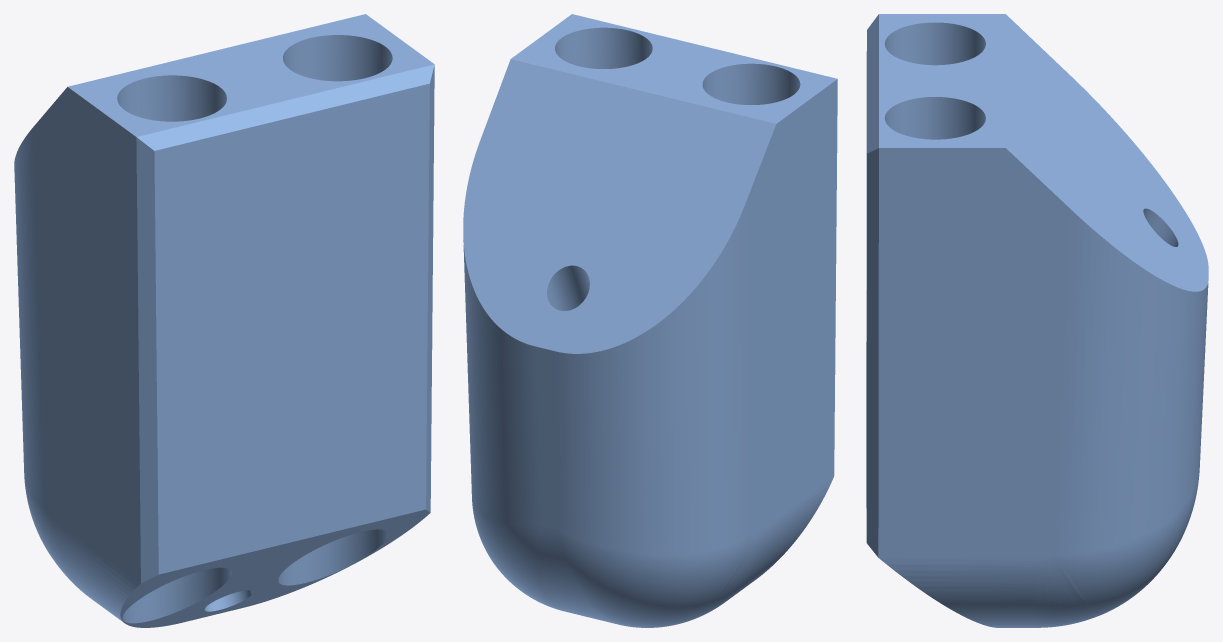
Rendered from dedo_cordial_3.dae.
3 renders of one model, left to right at view 1: azimuth 30°, elevation 25°; view 2: azimuth 150°, elevation 25°; view 3: azimuth 270°, elevation 25°, orthographic. The views are drawn at different scales.
Parts seen in each view (by area): view 1: Fingerdesign-All-2.010; view 2: Fingerdesign-All-2.010; view 3: Fingerdesign-All-2.010.
Boxes of the visible parts, <box> form: Fingerdesign-All-2.010: <box>14,14,434,627</box>; Fingerdesign-All-2.010: <box>463,14,837,627</box>; Fingerdesign-All-2.010: <box>866,14,1208,627</box>.
Bounding box in the file's own units: 0.0135 × 0.0146 × 0.0245.
